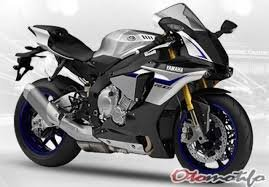motor: (11, 15, 253, 172)
